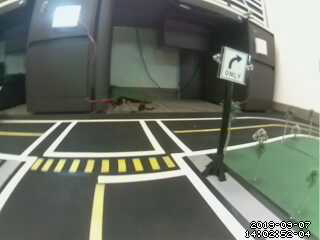Right_only_sign: (222, 48, 248, 83)
